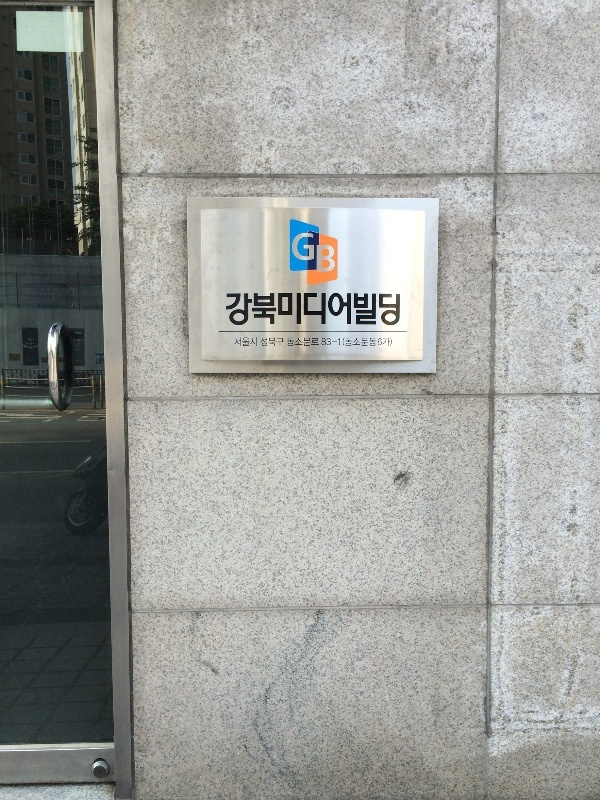text: (305, 231, 320, 277), (321, 231, 336, 277), (385, 291, 401, 328), (241, 291, 256, 328), (257, 291, 272, 328), (273, 291, 288, 328), (289, 291, 304, 328), (305, 291, 320, 328), (321, 291, 336, 328), (337, 291, 352, 328), (353, 291, 368, 328), (369, 291, 384, 328), (292, 231, 304, 277), (226, 291, 240, 328), (241, 337, 256, 347), (353, 337, 368, 347), (369, 337, 384, 347), (289, 338, 304, 347), (273, 337, 285, 348), (305, 338, 319, 347), (261, 337, 272, 348), (322, 338, 336, 346), (343, 337, 352, 347), (385, 337, 392, 347), (235, 337, 240, 347), (337, 338, 340, 346), (257, 337, 258, 347), (287, 338, 288, 347)
